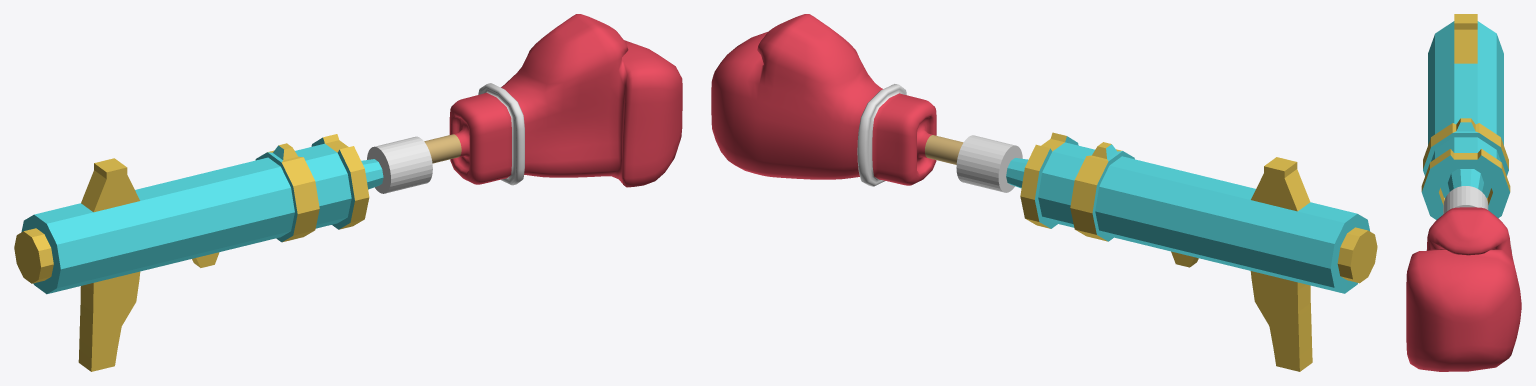
The model's file is Punch.Gun.fbx.
3 renders of one model, left to right at view 1: azimuth 30°, elevation 25°; view 2: azimuth 150°, elevation 25°; view 3: azimuth 270°, elevation 25°, orthographic. The views are drawn at different scales.
Visible parts, largest first — view 1: gun, glove.004, extension; view 2: gun, glove.004, extension; view 3: glove.004, gun, extension.
Boxes of the visible parts, box(x1,y1,x2,y2) form: gun: box(14, 134, 383, 371); glove.004: box(424, 14, 682, 187); extension: box(367, 136, 432, 193); gun: box(1006, 132, 1377, 371); glove.004: box(711, 14, 963, 186); extension: box(956, 135, 1022, 192); glove.004: box(1406, 207, 1521, 371); gun: box(1421, 14, 1510, 219); extension: box(1443, 186, 1488, 213).
Size of the model in its own units: 11.95 by 3.96 by 2.
